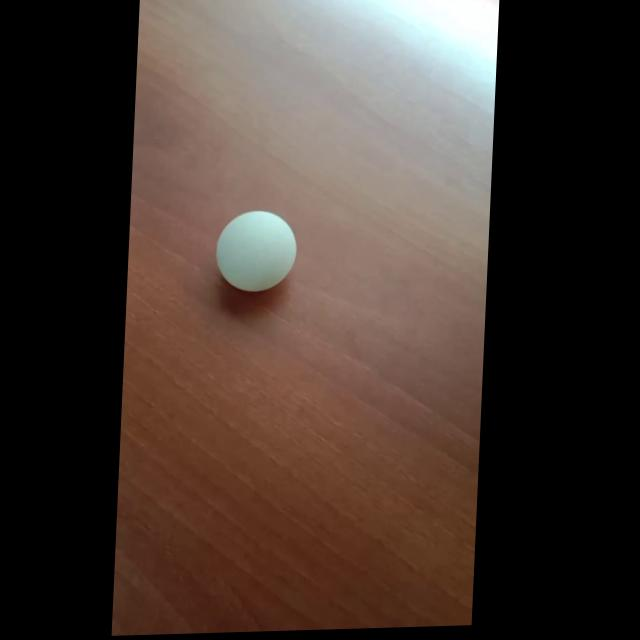white ball: (214, 208, 299, 294)
